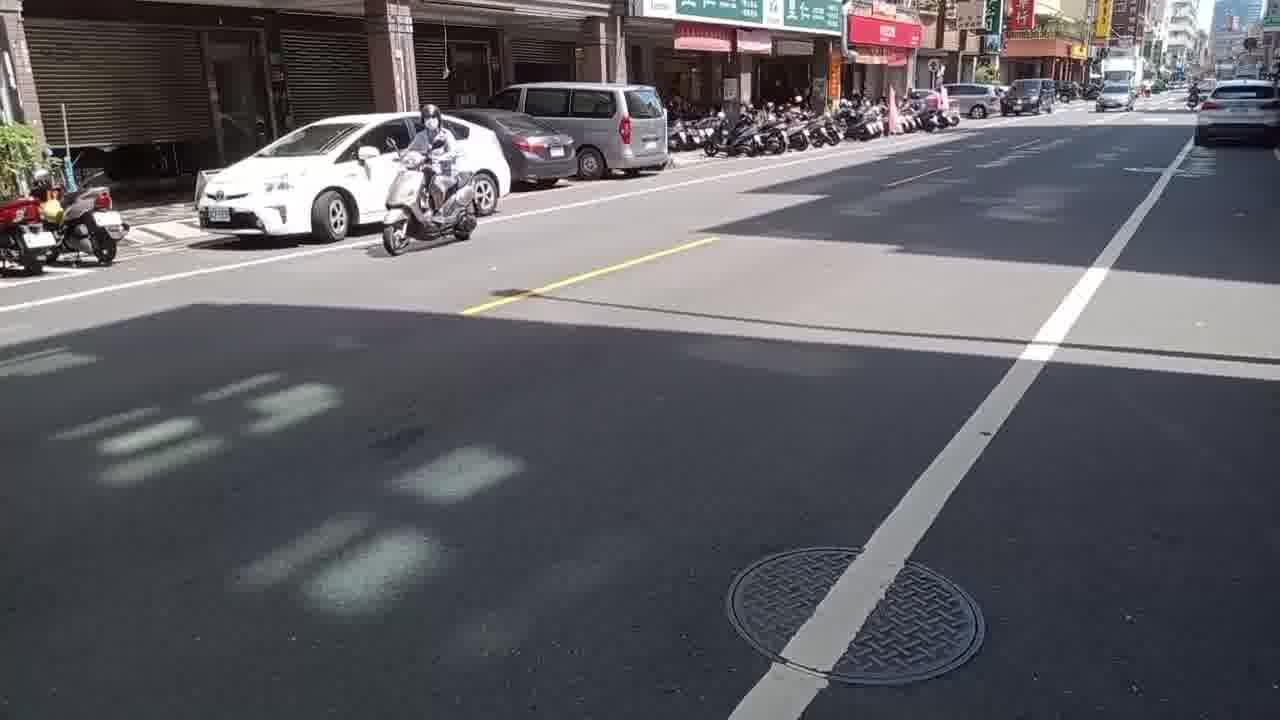driver: (379, 99, 484, 260)
